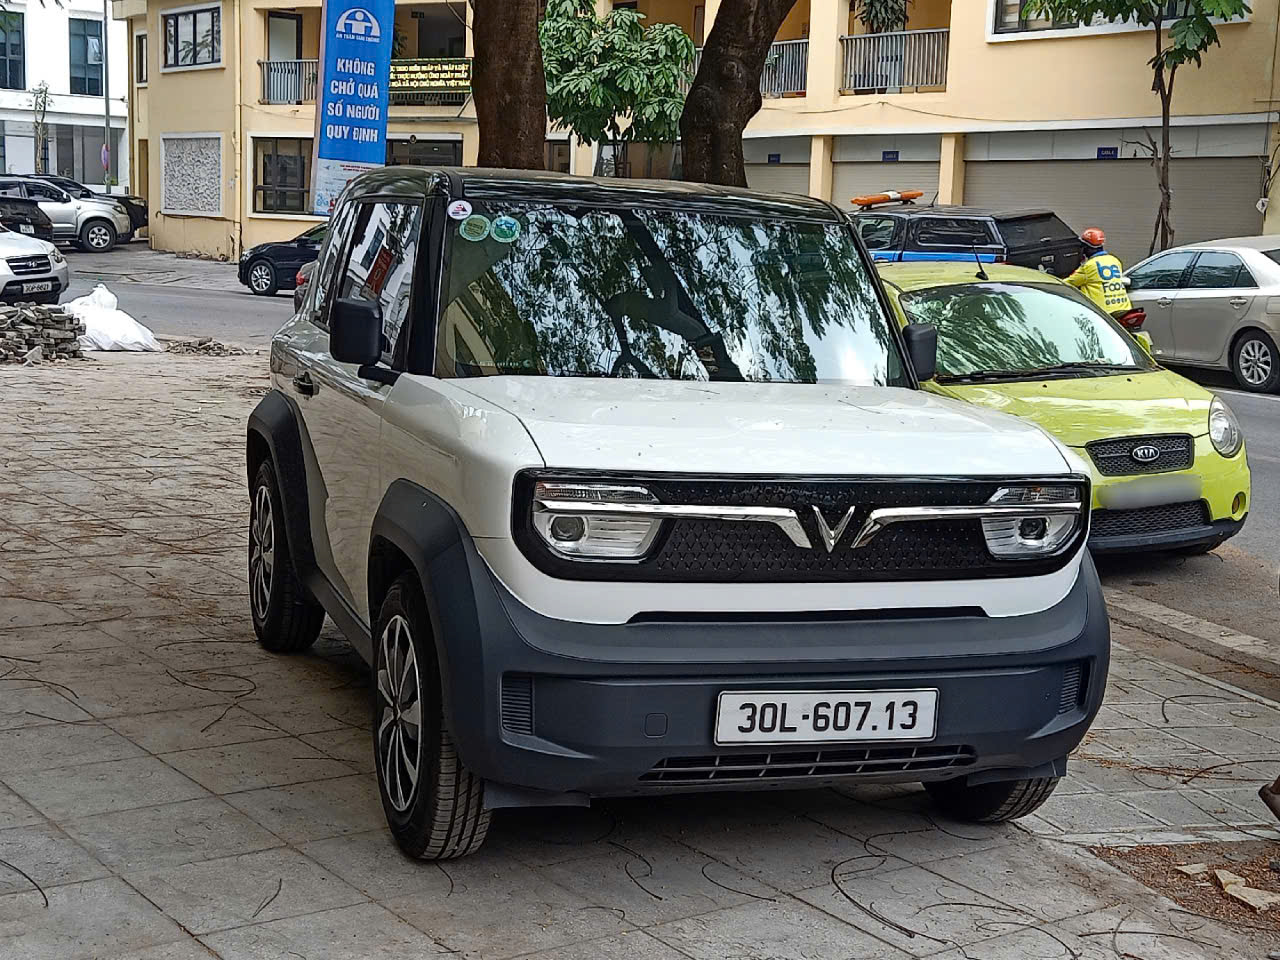bien_so: (716, 689, 939, 746)
